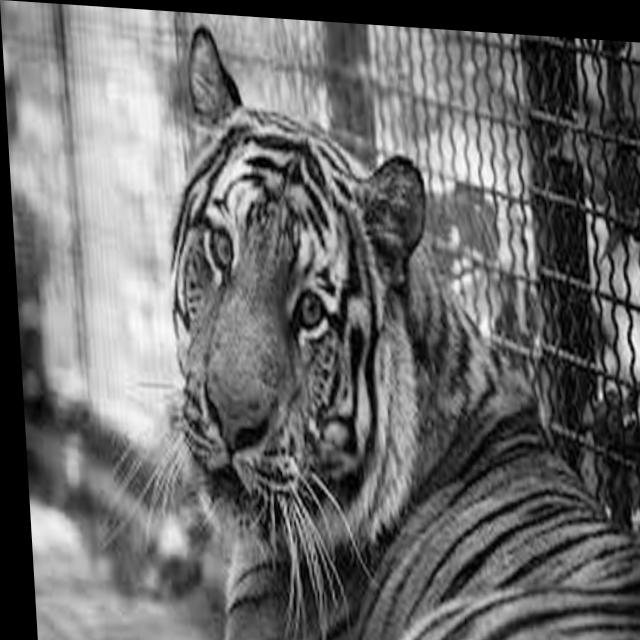Tiger: (150, 19, 640, 640)
